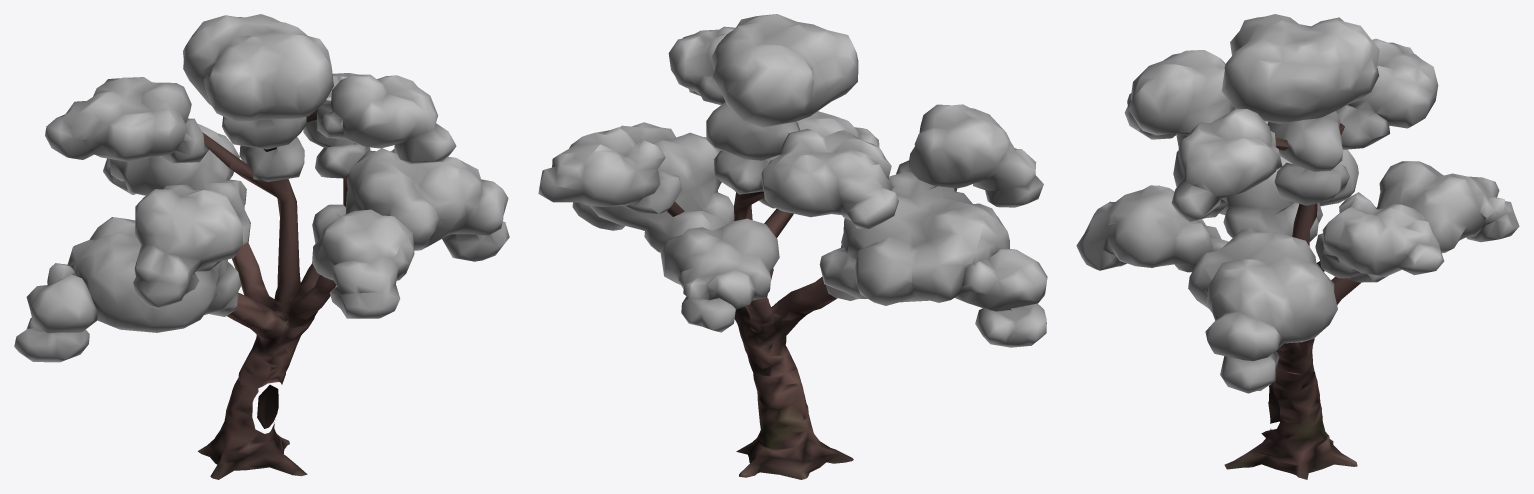
Rendered from cherry_a.glb.
3 renders of one model, left to right at view 1: azimuth 30°, elevation 25°; view 2: azimuth 150°, elevation 25°; view 3: azimuth 270°, elevation 25°, orthographic. The views are drawn at different scales.
Visible parts, largest first — view 1: cherry_a_LOD0; view 2: cherry_a_LOD0; view 3: cherry_a_LOD0.
Part boxes in pixels (bbox=[...]): cherry_a_LOD0: bbox=[14, 14, 509, 479]; cherry_a_LOD0: bbox=[538, 14, 1047, 479]; cherry_a_LOD0: bbox=[1076, 14, 1519, 479].
Size of what is drawn, in the model's own units: 8.96 by 7.65 by 7.07.
